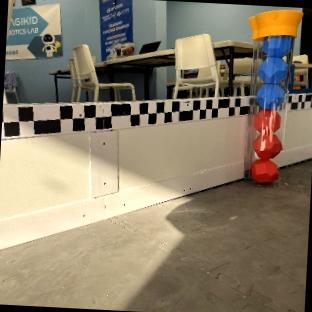V5_RED: (252, 107, 281, 157), (251, 158, 277, 182)
